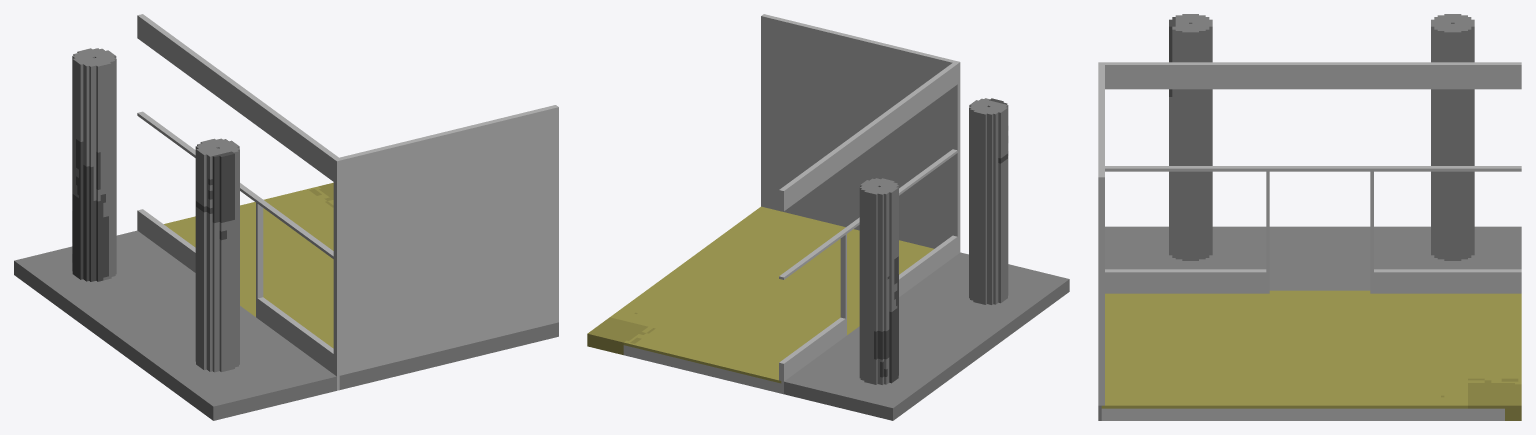
The model's file is 2x2 first (2)-1.obj.
The picture shows the model from 3 angles, left to right: view 1: azimuth 30°, elevation 25°; view 2: azimuth 150°, elevation 25°; view 3: azimuth 270°, elevation 25°; orthographic projection. The views are drawn at different scales.
Visible parts, largest first — view 1: 2x2 first (2)-1; view 2: 2x2 first (2)-1; view 3: 2x2 first (2)-1.
Part boxes in pixels (left/top/right/bottom): 2x2 first (2)-1: left=14, top=14, right=558, bottom=420; 2x2 first (2)-1: left=587, top=14, right=1069, bottom=420; 2x2 first (2)-1: left=1098, top=14, right=1521, bottom=420.
Bounding box in the file's own units: 126 × 80 × 126.
1 material, 1 textured.
